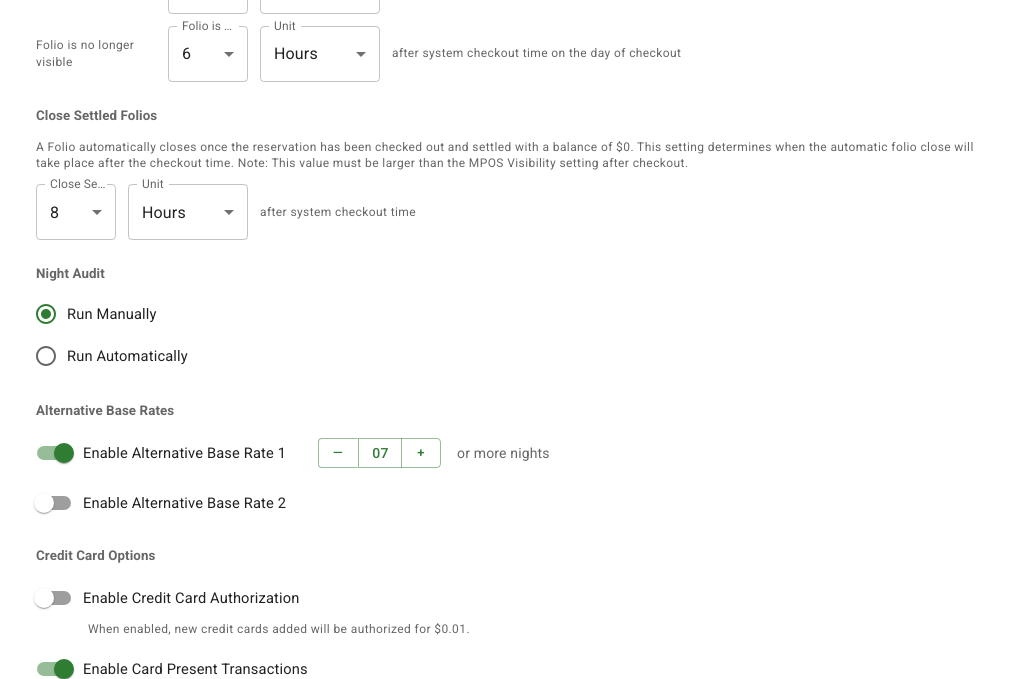
Training Mode › says so, once, after Training Mode is turned off again having forced Run Manually
(page scrolled)
Click the radio button labelled "Run Automatically": (111,356) [34,344,188,368]
(page scrolled)
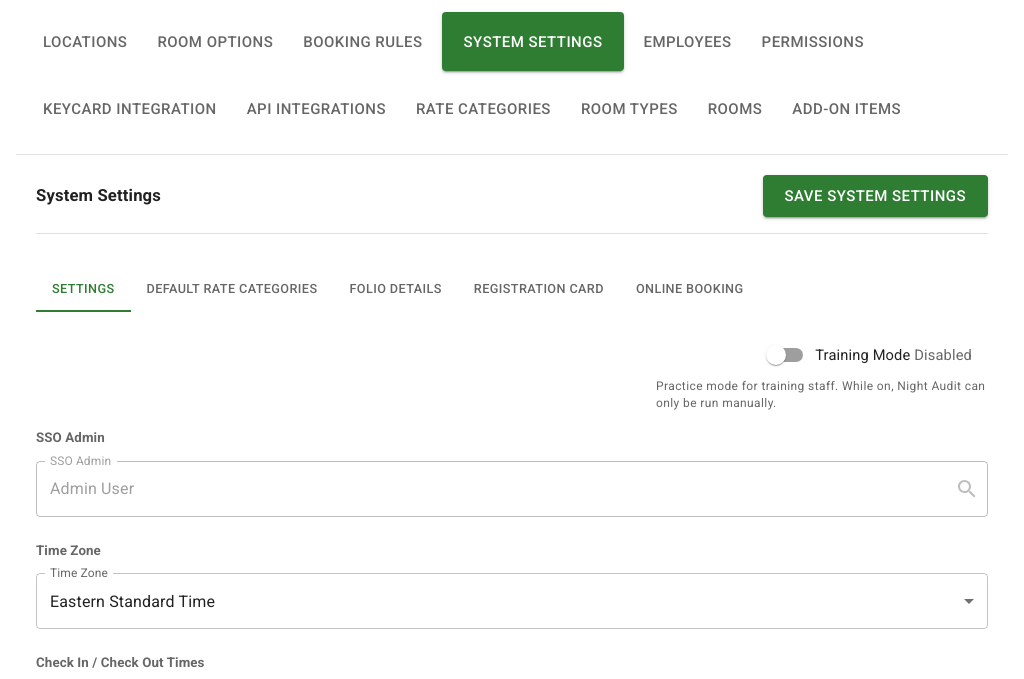
Click the switch labelled "Training Mode": (869,355) [766,345,972,365]
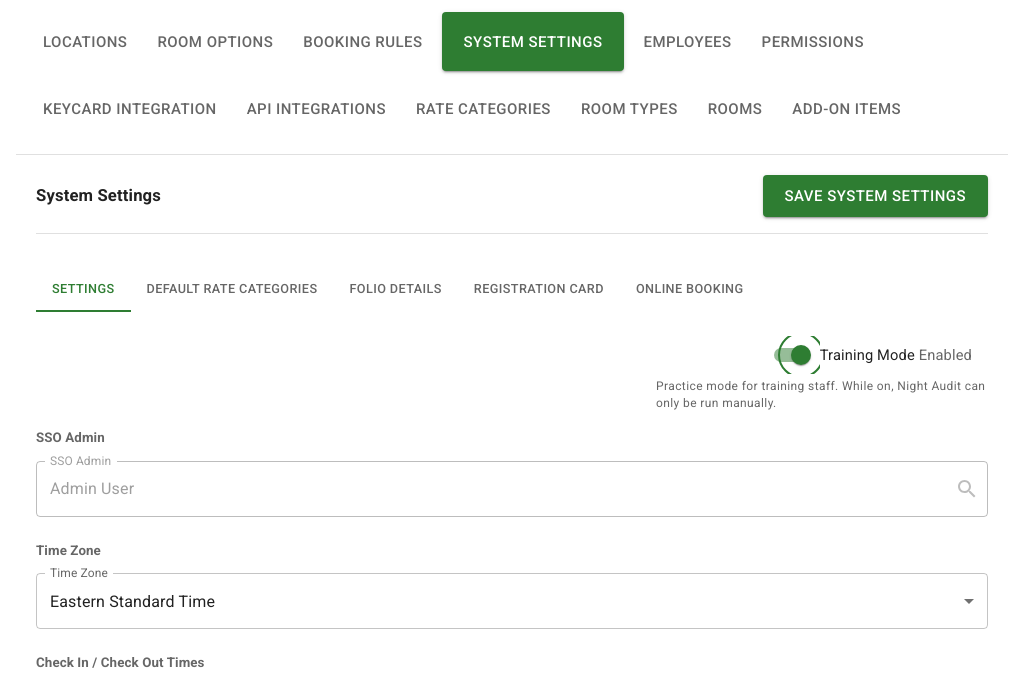
Check: the text "was set to Run Manually" is not shown
Click the switch labelled "Training Mode": (873,355) [774,345,972,365]
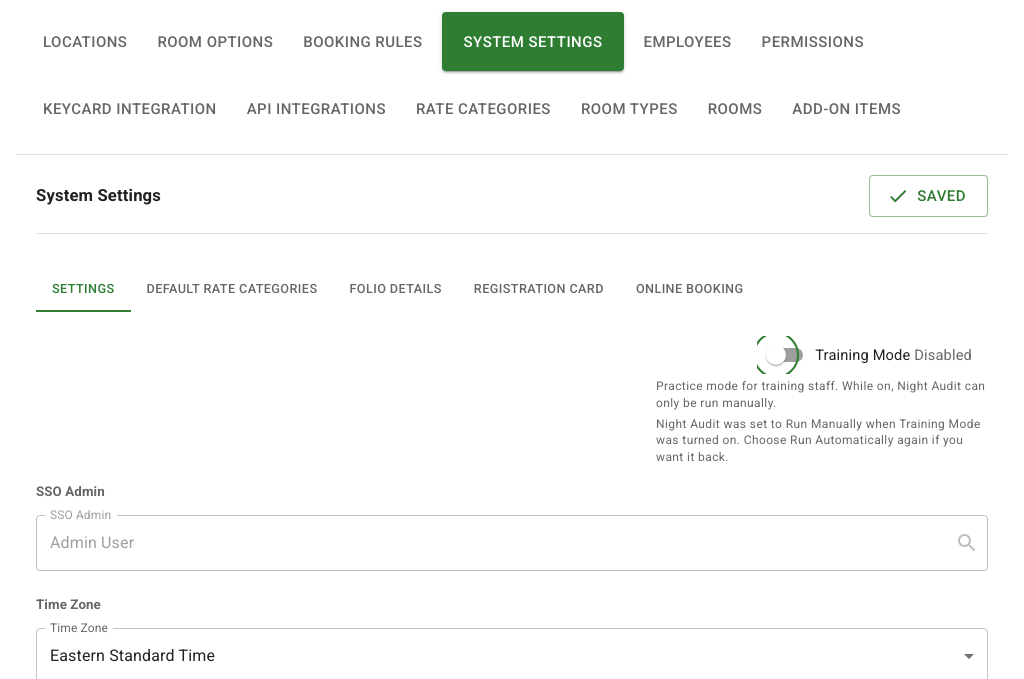
Check: the text "was set to Run Manually" is shown, box [656,417,981,464]
